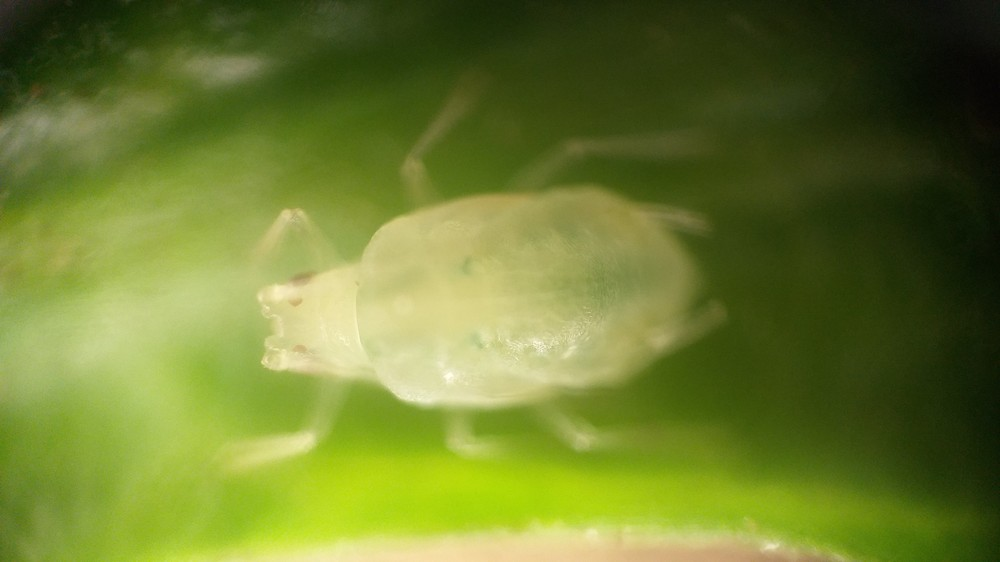Pulgon: (200, 74, 770, 513)
